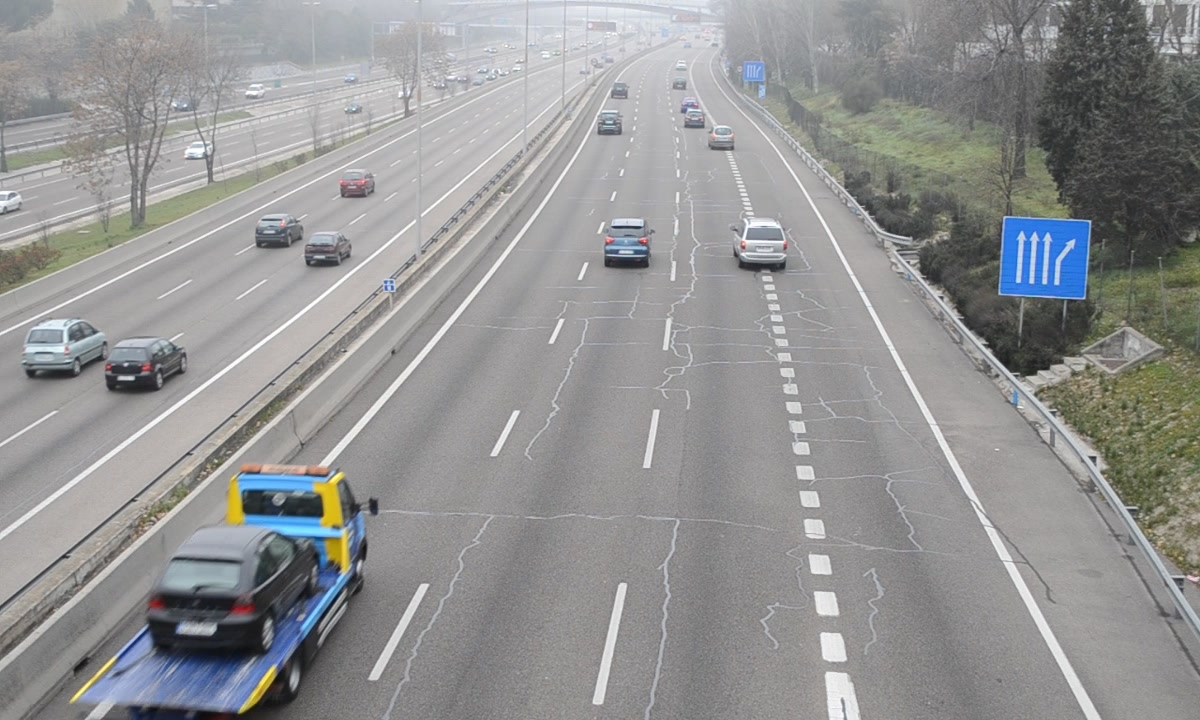car: (735, 217, 788, 268), (603, 219, 650, 265), (708, 124, 736, 151), (596, 109, 623, 137)
small-truck: (66, 465, 364, 708)
